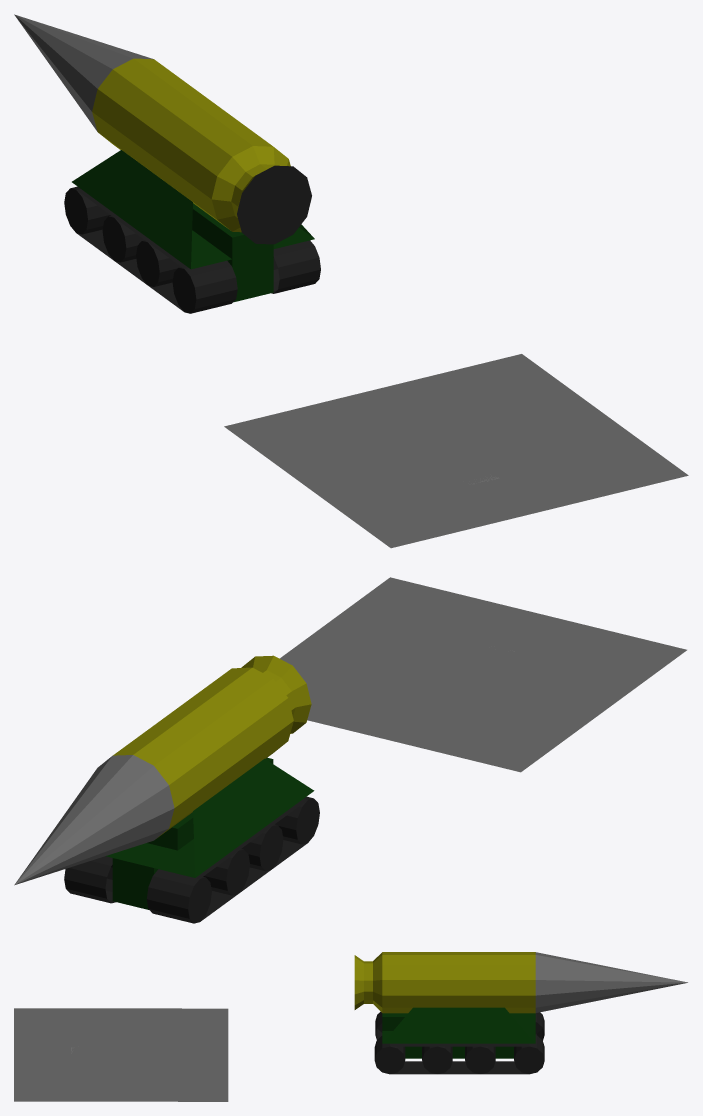
The picture shows the model from 3 angles, top to bottom: view 1: azimuth 30°, elevation 25°; view 2: azimuth 150°, elevation 25°; view 3: azimuth 270°, elevation 25°; orthographic projection. The views are drawn at different scales.
Parts seen in each view (by area): view 1: ShapeIndexedFaceSet.010_ShapeIndexedFaceSet.011, ShapeIndexedFaceSet.004_ShapeIndexedFaceSet.005, ShapeIndexedFaceSet.006_ShapeIndexedFaceSet.007, ShapeIndexedFaceSet.005_ShapeIndexedFaceSet.006, ShapeIndexedFaceSet.003_ShapeIndexedFaceSet.004; view 2: ShapeIndexedFaceSet.010_ShapeIndexedFaceSet.011, ShapeIndexedFaceSet.004_ShapeIndexedFaceSet.005, ShapeIndexedFaceSet.005_ShapeIndexedFaceSet.006, ShapeIndexedFaceSet.003_ShapeIndexedFaceSet.004, ShapeIndexedFaceSet.006_ShapeIndexedFaceSet.007; view 3: ShapeIndexedFaceSet.010_ShapeIndexedFaceSet.011, ShapeIndexedFaceSet.004_ShapeIndexedFaceSet.005, ShapeIndexedFaceSet.005_ShapeIndexedFaceSet.006, ShapeIndexedFaceSet.006_ShapeIndexedFaceSet.007, ShapeIndexedFaceSet.003_ShapeIndexedFaceSet.004.
Boxes of the visible parts, x1,y1,x2,y2 form: ShapeIndexedFaceSet.010_ShapeIndexedFaceSet.011: (224, 354, 688, 548); ShapeIndexedFaceSet.004_ShapeIndexedFaceSet.005: (92, 58, 290, 232); ShapeIndexedFaceSet.006_ShapeIndexedFaceSet.007: (64, 165, 320, 313); ShapeIndexedFaceSet.005_ShapeIndexedFaceSet.006: (72, 150, 314, 302); ShapeIndexedFaceSet.003_ShapeIndexedFaceSet.004: (14, 14, 153, 131); ShapeIndexedFaceSet.010_ShapeIndexedFaceSet.011: (280, 577, 686, 772); ShapeIndexedFaceSet.004_ShapeIndexedFaceSet.005: (113, 655, 311, 837); ShapeIndexedFaceSet.005_ShapeIndexedFaceSet.006: (105, 757, 314, 909); ShapeIndexedFaceSet.003_ShapeIndexedFaceSet.004: (14, 755, 174, 885); ShapeIndexedFaceSet.006_ShapeIndexedFaceSet.007: (64, 796, 319, 923); ShapeIndexedFaceSet.010_ShapeIndexedFaceSet.011: (14, 1008, 228, 1101); ShapeIndexedFaceSet.004_ShapeIndexedFaceSet.005: (354, 952, 535, 1013); ShapeIndexedFaceSet.005_ShapeIndexedFaceSet.006: (382, 1007, 535, 1058); ShapeIndexedFaceSet.006_ShapeIndexedFaceSet.007: (374, 1011, 544, 1074); ShapeIndexedFaceSet.003_ShapeIndexedFaceSet.004: (535, 952, 687, 1012).
Size of the model in its own units: 72.35 by 36.11 by 220.
